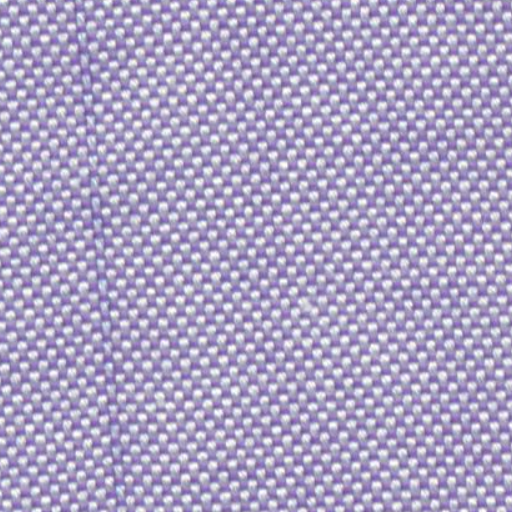TuoSha: (63, 12, 151, 505)
